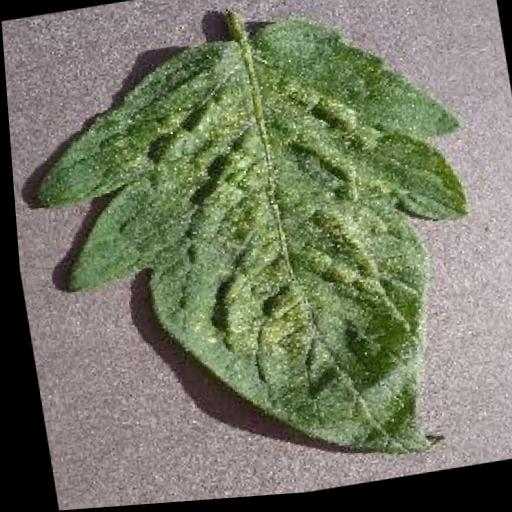Spider Mites: (5, 1, 504, 510)
